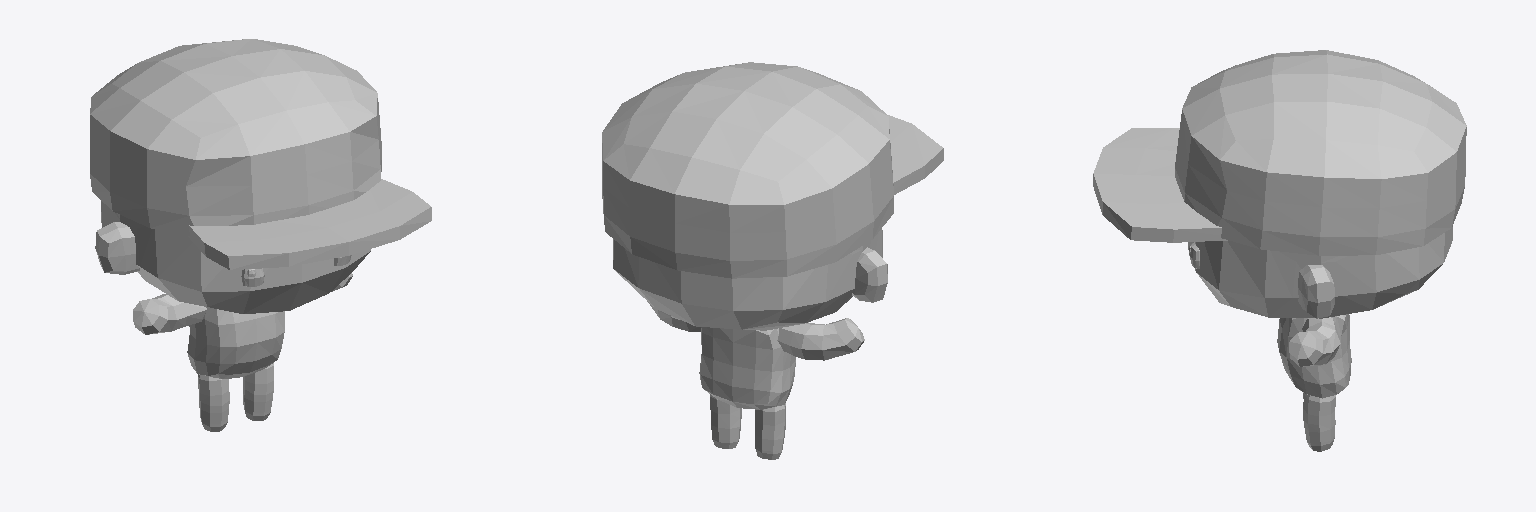
File: jump_0020.obj
3 renders of one model, left to right at view 1: azimuth 30°, elevation 25°; view 2: azimuth 150°, elevation 25°; view 3: azimuth 270°, elevation 25°, orthographic.
Parts seen in each view (by area): view 1: Object_41, Object_42, Object_36, Object_44; view 2: Object_41, Object_36, Object_44, Object_42; view 3: Object_41, Object_36, Object_42, Object_44.
Boxes of the visible parts, x1=… form: Object_41: x1=90, y1=39, x2=381, y2=235; Object_42: x1=186, y1=116, x2=431, y2=269; Object_36: x1=95, y1=201, x2=370, y2=313; Object_44: x1=133, y1=273, x2=352, y2=431; Object_41: x1=602, y1=62, x2=893, y2=278; Object_36: x1=613, y1=229, x2=887, y2=330; Object_44: x1=647, y1=301, x2=864, y2=459; Object_42: x1=888, y1=115, x2=943, y2=194; Object_41: x1=1182, y1=50, x2=1466, y2=255; Object_36: x1=1188, y1=227, x2=1452, y2=318; Object_42: x1=1093, y1=110, x2=1227, y2=242; Object_44: x1=1277, y1=314, x2=1351, y2=451.
Bounding box in the file's own units: 0.9691 × 1.22 × 1.13.